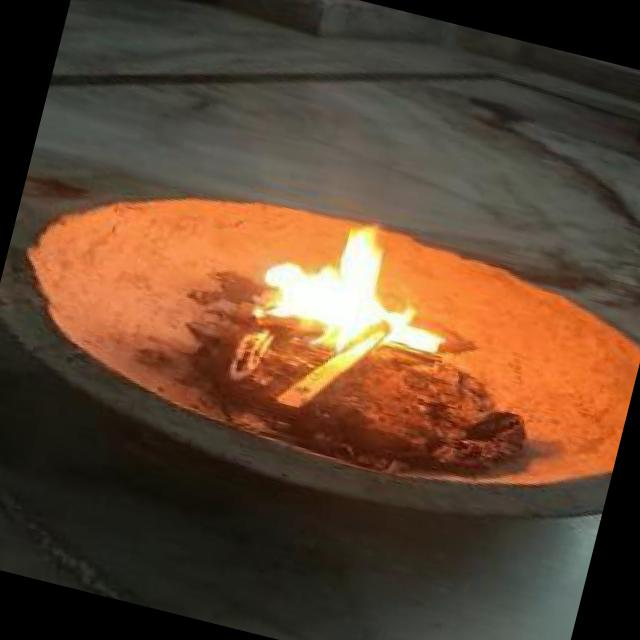fire: (220, 193, 463, 393)
